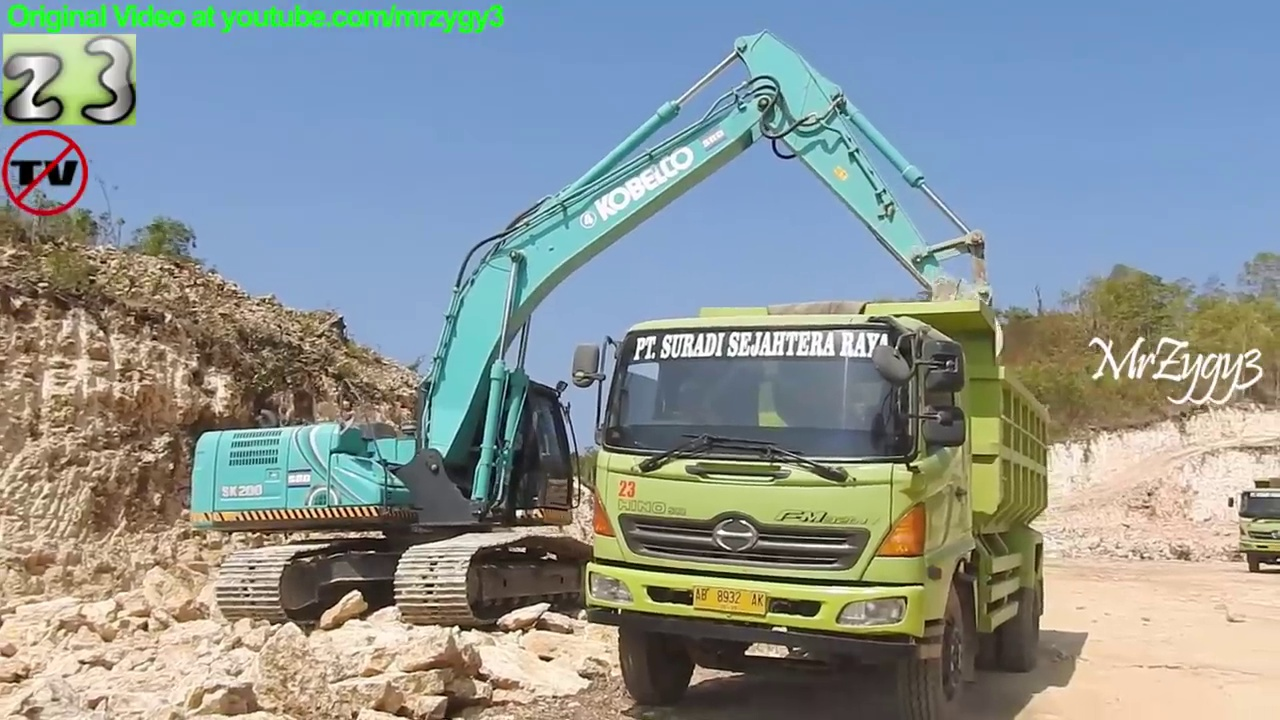excavator: (184, 26, 1013, 634), (565, 290, 1058, 720)
truck: (1223, 472, 1280, 579)
